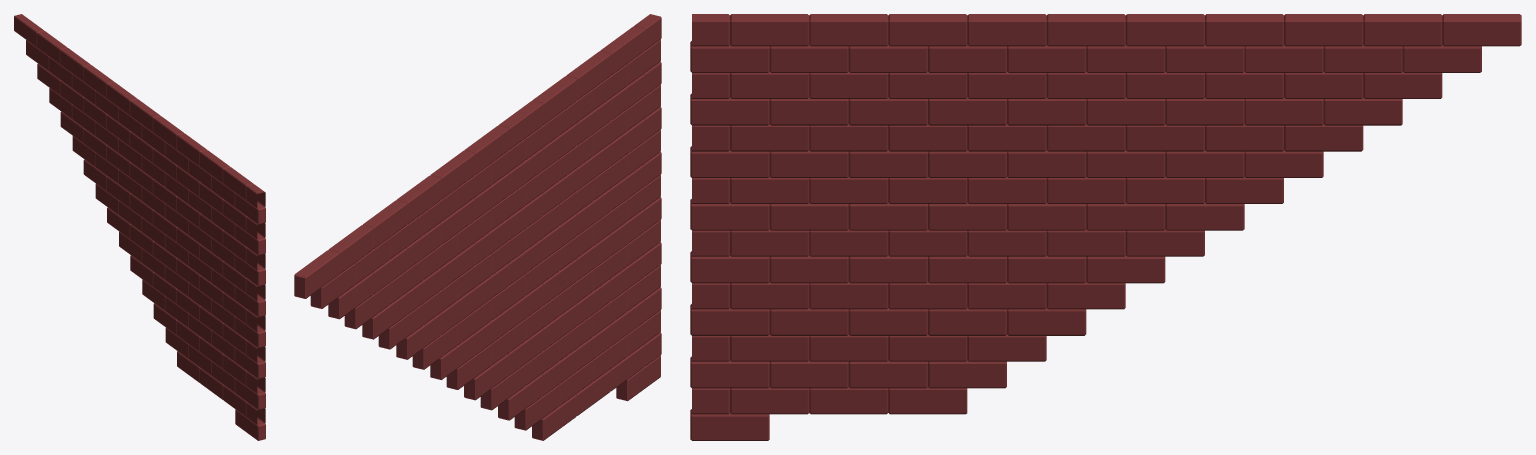
The model's file is bricks.glb.
3 views of the same model, side by side, from view 1: azimuth 30°, elevation 25°; view 2: azimuth 150°, elevation 25°; view 3: azimuth 270°, elevation 25° (orthographic). The views are drawn at different scales.
Visible parts, largest first — view 1: Brick.104, Brick.100, Brick.102, Brick.101, Brick.103, Brick.105, Brick.108, Brick.106, Brick.109, Brick.107, Brick.001, Brick.079 (+98 smaller); view 2: Brick.100, Brick.108, Brick.107, Brick.109, Brick.101, Brick.103, Brick.102, Brick.104, Brick.105, Brick.106, Brick.010, Brick.002 (+98 smaller); view 3: Brick.104, Brick.102, Brick.109, Brick.100, Brick.101, Brick.105, Brick.106, Brick.107, Brick.108, Brick.103, Brick.031, Brick.009 (+98 smaller).
Boxes of the visible parts, box(x1,y1,x2,y2) form: Brick.104: box(107, 82, 137, 115); Brick.100: box(14, 14, 44, 47); Brick.102: box(60, 48, 90, 81); Brick.101: box(37, 31, 67, 64); Brick.103: box(83, 65, 113, 98); Brick.105: box(130, 99, 160, 132); Brick.108: box(200, 150, 230, 183); Brick.106: box(153, 116, 183, 149); Brick.109: box(223, 167, 253, 200); Brick.107: box(177, 133, 206, 166); Brick.001: box(235, 409, 265, 440); Brick.079: box(235, 224, 265, 255); Brick.100: box(294, 250, 338, 298); Brick.108: box(566, 51, 610, 100); Brick.107: box(532, 76, 576, 124); Brick.109: box(600, 26, 644, 75); Brick.101: box(328, 225, 372, 274); Brick.103: box(396, 175, 440, 224); Brick.102: box(362, 200, 406, 249); Brick.104: box(430, 150, 474, 199); Brick.105: box(464, 126, 508, 174); Brick.106: box(498, 101, 542, 149); Brick.010: box(498, 374, 542, 420); Brick.002: box(532, 394, 576, 440); Brick.104: box(1125, 14, 1204, 46); Brick.102: box(1284, 14, 1363, 46); Brick.109: box(730, 14, 809, 46); Brick.100: box(1442, 14, 1521, 46); Brick.101: box(1363, 14, 1442, 46); Brick.105: box(1046, 14, 1125, 46); Brick.106: box(967, 14, 1046, 46); Brick.107: box(888, 14, 967, 46); Brick.108: box(809, 14, 888, 46); Brick.103: box(1205, 14, 1283, 46); Brick.031: box(690, 251, 769, 283); Brick.009: box(690, 356, 769, 388).
Bounding box in the file's own units: 0.4306 × 11.73 × 21.
